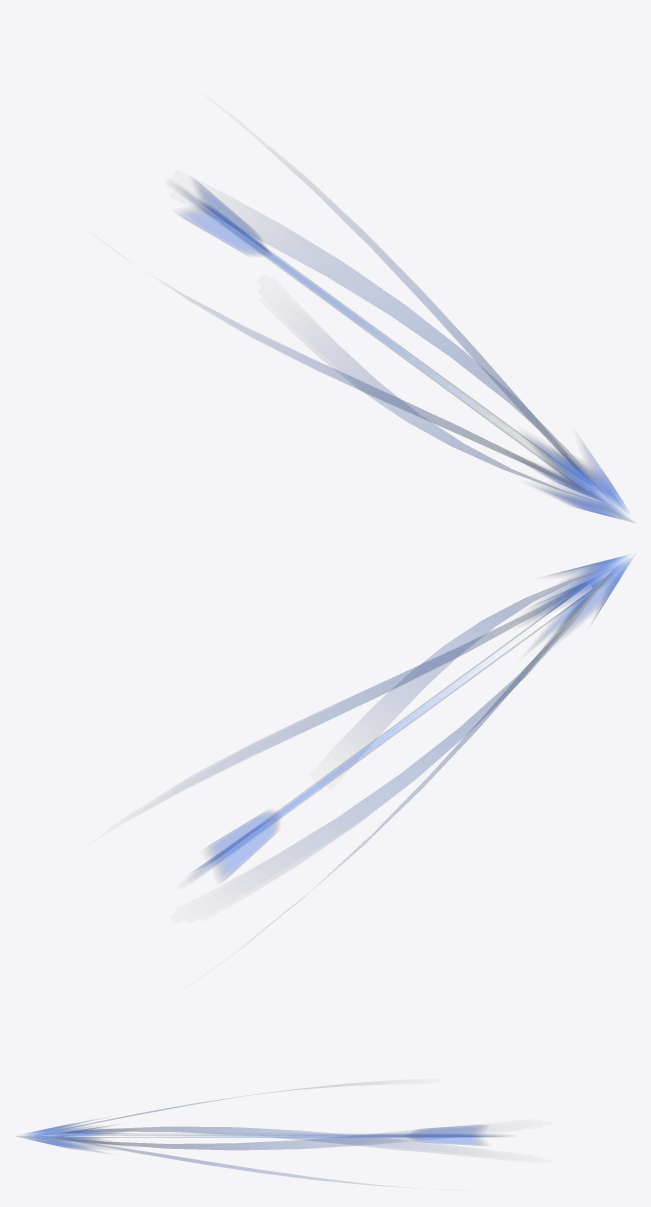
3 views of the same model, one above another, from view 1: azimuth 30°, elevation 25°; view 2: azimuth 150°, elevation 25°; view 3: azimuth 270°, elevation 25° (orthographic). The views are drawn at different scales.
Visible parts, largest first — view 1: layer_00_oe2562U00; view 2: layer_00_oe2562U00; view 3: layer_00_oe2562U00.
Boxes of the visible parts, <box> form: layer_00_oe2562U00: <box>177,179,636,523</box>; layer_00_oe2562U00: <box>183,552,636,922</box>; layer_00_oe2562U00: <box>15,1084,504,1184</box>.
Bounding box in the file's own units: 9.81 × 9.71 × 62.03.
Materials: 1 (1 with a texture image).
